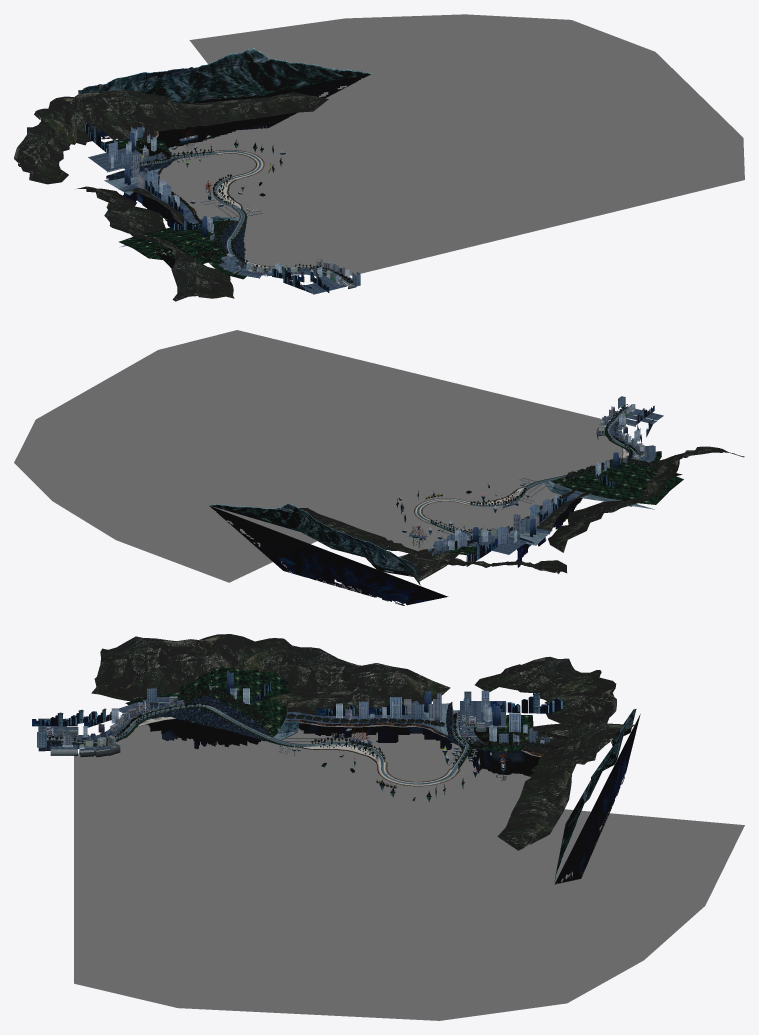
The model's file is stage-beac-bt.glb.
3 renders of one model, top to bottom at view 1: azimuth 30°, elevation 25°; view 2: azimuth 150°, elevation 25°; view 3: azimuth 270°, elevation 25°, orthographic. The views are drawn at different scales.
Visible parts, largest first — view 1: part 5, part 1, part 3, env part 1, env part 2, part 4, env part 0, part 0, part 2; view 2: part 5, part 1, part 3, part 4, env part 2, env part 1, env part 0, part 2, part 0; view 3: part 5, part 1, part 3, env part 1, part 2, env part 2, env part 0, part 0, part 4.
Boxes of the visible parts, x1=… form: part 5: x1=137, y1=14, x2=744, y2=275; part 1: x1=14, y1=48, x2=371, y2=301; part 3: x1=85, y1=122, x2=360, y2=293; env part 1: x1=106, y1=138, x2=325, y2=277; env part 2: x1=114, y1=148, x2=352, y2=283; part 4: x1=171, y1=128, x2=285, y2=217; env part 0: x1=130, y1=149, x2=347, y2=281; part 0: x1=123, y1=149, x2=351, y2=285; part 2: x1=126, y1=126, x2=352, y2=284; part 5: x1=14, y1=330, x2=623, y2=582; part 1: x1=209, y1=406, x2=744, y2=605; part 3: x1=428, y1=396, x2=655, y2=566; part 4: x1=396, y1=477, x2=546, y2=543; env part 2: x1=431, y1=404, x2=644, y2=541; env part 1: x1=441, y1=414, x2=682, y2=548; env part 0: x1=414, y1=408, x2=635, y2=532; part 2: x1=432, y1=406, x2=658, y2=531; part 0: x1=414, y1=407, x2=632, y2=537; part 5: x1=74, y1=718, x2=744, y2=1020; part 1: x1=38, y1=634, x2=640, y2=883; part 3: x1=32, y1=670, x2=563, y2=770; env part 1: x1=58, y1=669, x2=528, y2=768; part 2: x1=48, y1=676, x2=566, y2=767; env part 2: x1=44, y1=691, x2=484, y2=767; env part 0: x1=47, y1=705, x2=469, y2=786; part 0: x1=47, y1=704, x2=469, y2=786; part 4: x1=278, y1=728, x2=507, y2=801.
Bounding box in the file's own units: 5986 × 730 × 5103.
Materials: 184 (181 with a texture image).
